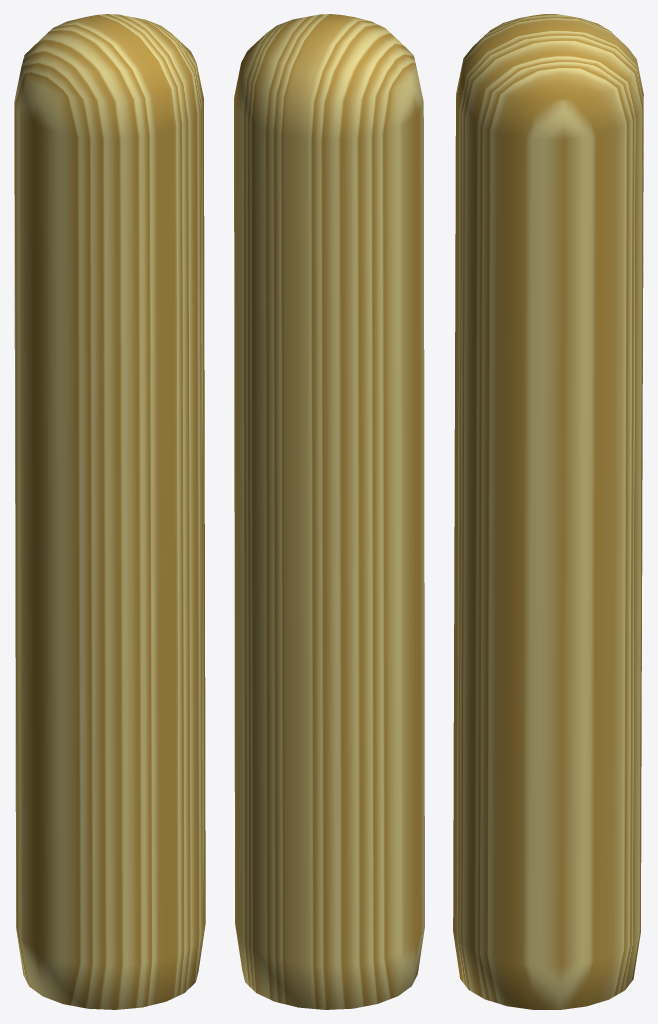
Rendered from right leg.obj.
The picture shows the model from 3 angles, left to right: view 1: azimuth 30°, elevation 25°; view 2: azimuth 150°, elevation 25°; view 3: azimuth 270°, elevation 25°; orthographic projection.
Visible parts, largest first — view 1: Blake_right_leg_up_right_leg; view 2: Blake_right_leg_up_right_leg; view 3: Blake_right_leg_up_right_leg.
Boxes of the visible parts, box(x1,y1,x2,y2) form: Blake_right_leg_up_right_leg: box(14, 14, 205, 1009); Blake_right_leg_up_right_leg: box(234, 14, 424, 1009); Blake_right_leg_up_right_leg: box(453, 14, 643, 1009).
Bounding box in the file's own units: 0.4134 × 2.34 × 0.4187.
